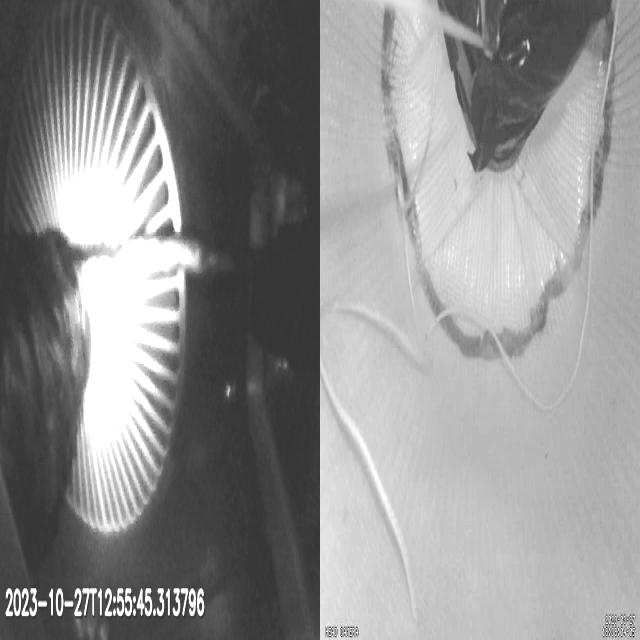red-circle: (380, 0, 616, 363)
